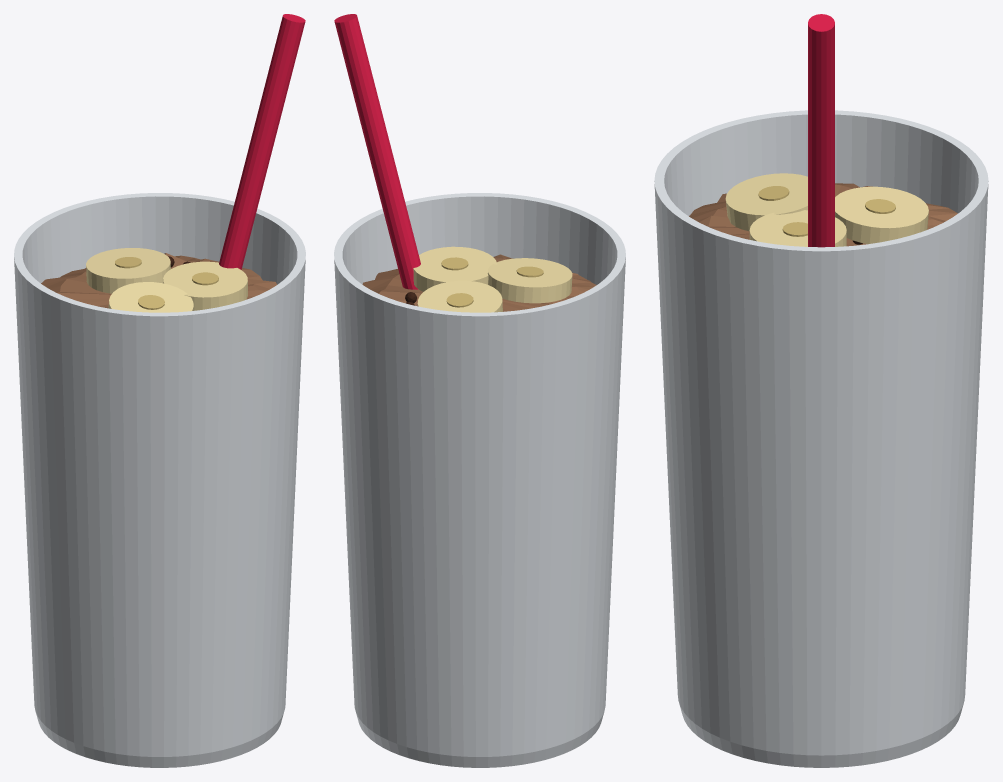
The model's file is batido.glb.
3 views of the same model, side by side, from view 1: azimuth 30°, elevation 25°; view 2: azimuth 150°, elevation 25°; view 3: azimuth 270°, elevation 25° (orthographic). The views are drawn at different scales.
Parts seen in each view (by area): view 1: vaso, sorbete, platano0, platano2, espuma, platano1; view 2: vaso, sorbete, platano1, platano0, platano2, espuma; view 3: vaso, sorbete, platano2, platano1, espuma, platano0.
Part boxes in pixels (bbox=[...]): vaso: bbox=[14, 193, 305, 767]; sorbete: bbox=[219, 14, 305, 269]; platano0: bbox=[163, 261, 247, 310]; platano2: bbox=[86, 248, 170, 293]; espuma: bbox=[41, 253, 276, 308]; platano1: bbox=[108, 282, 193, 312]; vaso: bbox=[334, 193, 625, 767]; sorbete: bbox=[334, 14, 420, 289]; platano1: bbox=[487, 258, 572, 303]; platano0: bbox=[413, 246, 497, 291]; platano2: bbox=[417, 280, 502, 312]; espuma: bbox=[362, 254, 596, 311]; vaso: bbox=[654, 110, 988, 767]; sorbete: bbox=[808, 14, 834, 247]; platano2: bbox=[835, 186, 928, 244]; platano1: bbox=[725, 173, 807, 231]; espuma: bbox=[689, 183, 957, 246]; platano0: bbox=[749, 210, 846, 246].
Bounding box in the file's own units: 0.092 × 0.2171 × 0.086.
